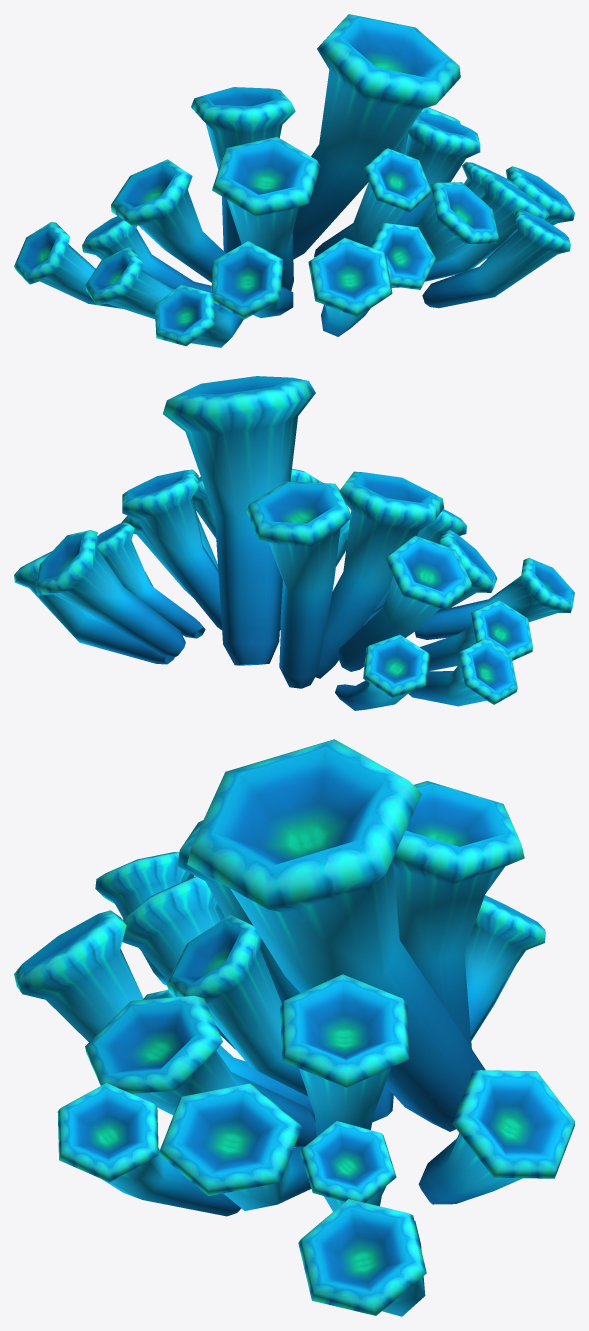
The picture shows the model from 3 angles, top to bottom: view 1: azimuth 30°, elevation 25°; view 2: azimuth 150°, elevation 25°; view 3: azimuth 270°, elevation 25°; orthographic projection. The views are drawn at different scales.
Parts seen in each view (by area): view 1: wk_s02_49c; view 2: wk_s02_49c; view 3: wk_s02_49c.
Boxes of the visible parts, x1,y1,x2,y2 form: wk_s02_49c: (14,14,574,347); wk_s02_49c: (14,376,574,710); wk_s02_49c: (14,739,574,1316).
Size of the model in its own units: 0.9399 by 0.5528 by 0.48.
1 material, 1 textured.
